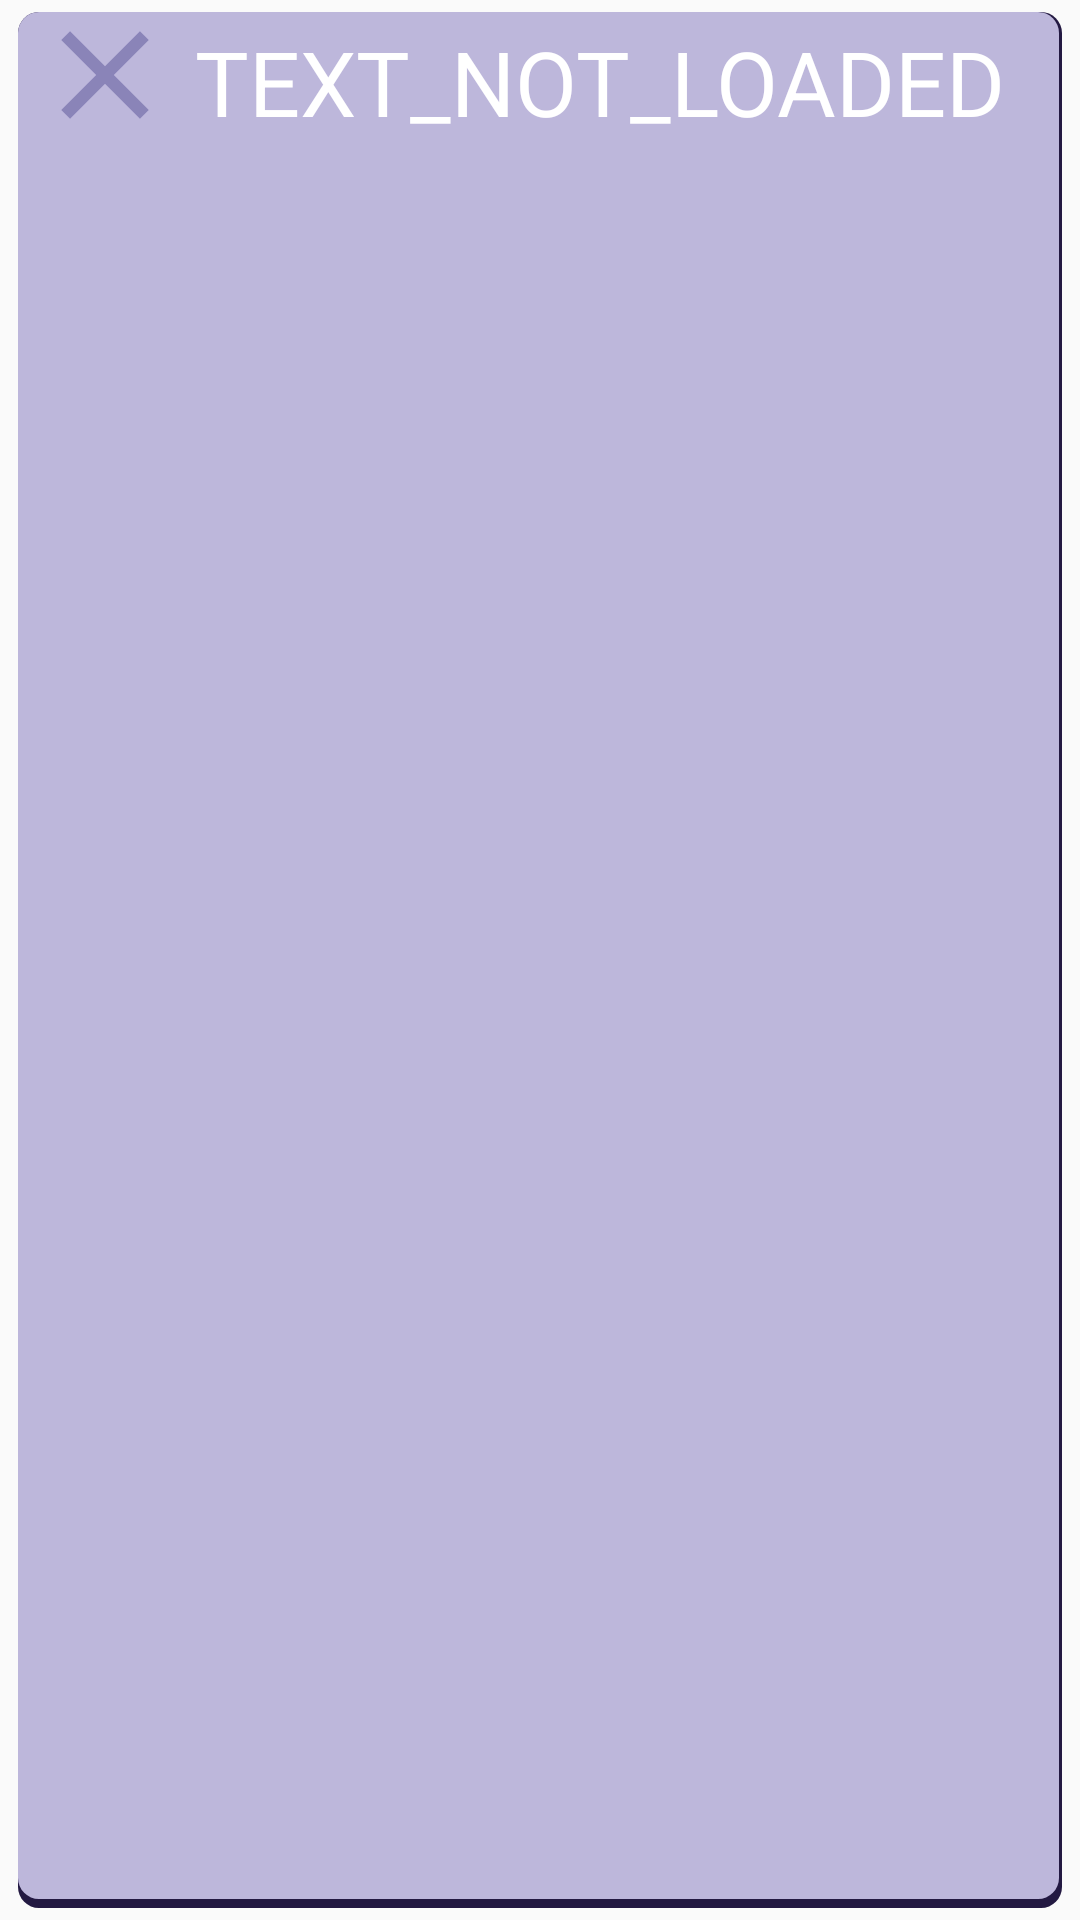

Screen size 1080x1920. Icon name, then its box in pixels as (x1, y1, x2, y2):
clear: (62, 32, 148, 118)
